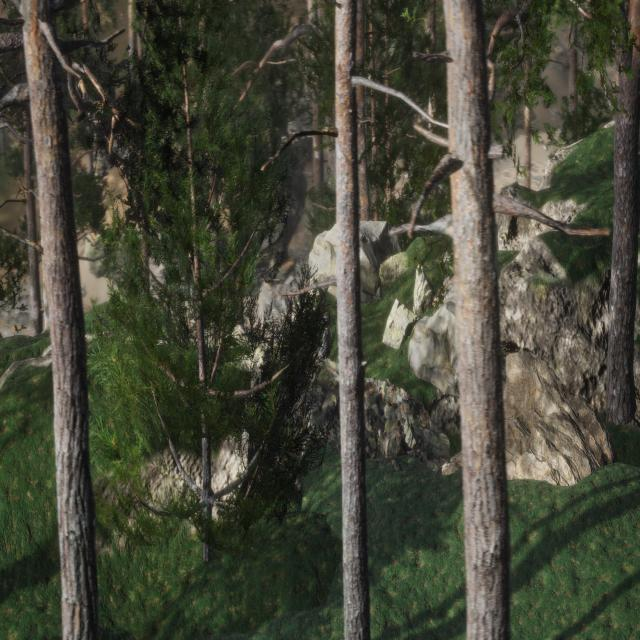Human: (315, 305, 336, 373)
